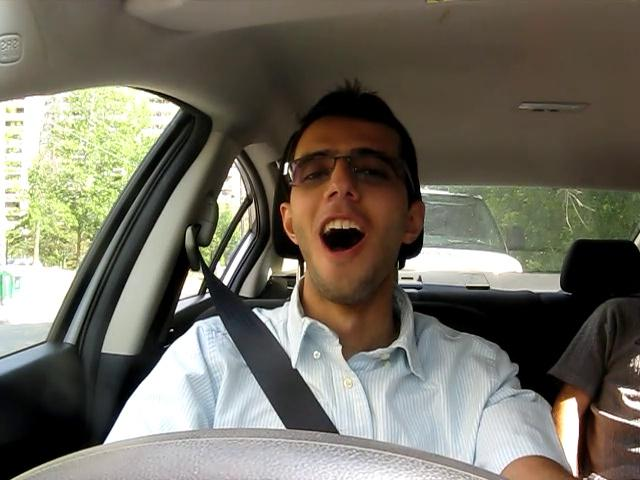close_eyeL: (294, 161, 337, 188)
close_eyeR: (347, 160, 405, 191)
yawn: (300, 213, 383, 261)
